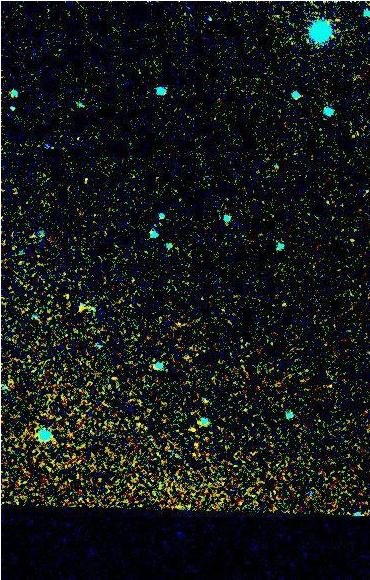star: (180, 415, 210, 445)
